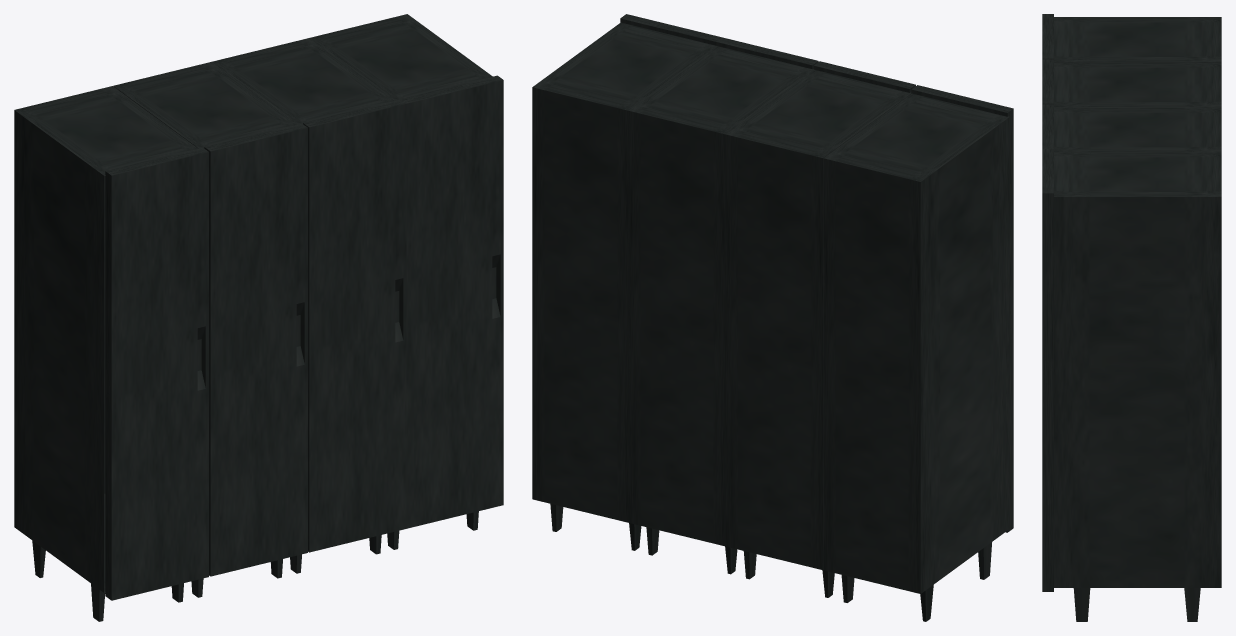
Rendered from lockers.fbx.
3 renders of one model, left to right at view 1: azimuth 30°, elevation 25°; view 2: azimuth 150°, elevation 25°; view 3: azimuth 270°, elevation 25°, orthographic. The views are drawn at different scales.
Parts seen in each view (by area): view 1: Cube, Cube.001, Cube.003, Cube.005, Cube.007, Cube.002, Cube.004, Cube.006; view 2: Cube, Cube.002, Cube.004, Cube.006, Cube.001, Cube.003, Cube.005, Cube.007; view 3: Cube.006, Cube, Cube.002, Cube.004, Cube.007, Cube.001, Cube.003, Cube.005.
Boxes of the visible parts, x1,y1,x2,y2 form: Cube: (14,86,197,621); Cube.001: (105,147,208,600); Cube.003: (204,123,307,576); Cube.005: (303,99,406,552); Cube.007: (400,75,503,528); Cube.002: (113,62,296,597); Cube.004: (212,38,395,573); Cube.006: (309,14,492,549); Cube: (823,93,1009,621); Cube.002: (725,69,911,597); Cube.004: (628,46,813,574); Cube.006: (532,22,715,550); Cube.001: (911,85,1013,532); Cube.003: (813,61,915,92); Cube.005: (716,37,818,69); Cube.007: (620,14,721,45); Cube.006: (1054,151,1221,621); Cube: (1054,17,1221,62); Cube.002: (1054,62,1221,107); Cube.004: (1054,107,1221,152); Cube.007: (1042,149,1053,591); Cube.001: (1042,14,1053,59); Cube.003: (1042,59,1053,104); Cube.005: (1042,104,1053,148).
Bounding box in the file's own units: 194 × 217 × 81.8.
2 materials, 2 textured.
